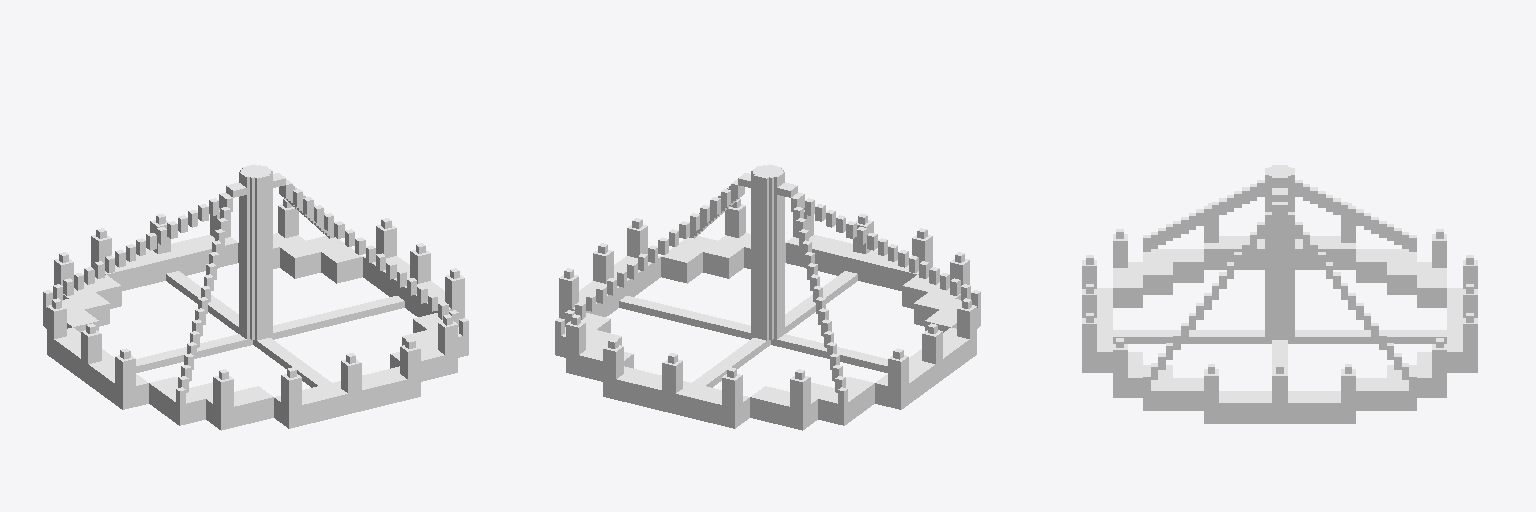
The model's file is lampa.obj.
3 views of the same model, side by side, from view 1: azimuth 30°, elevation 25°; view 2: azimuth 150°, elevation 25°; view 3: azimuth 270°, elevation 25° (orthographic).
Visible parts, largest first — view 1: object 1; view 2: object 1; view 3: object 1.
Part boxes in pixels (x1,y1,x2,y2): object 1: (43, 164, 468, 430); object 1: (555, 164, 980, 430); object 1: (1082, 165, 1477, 423).
Bounding box in the file's own units: 10.4 × 4.9 × 10.4.